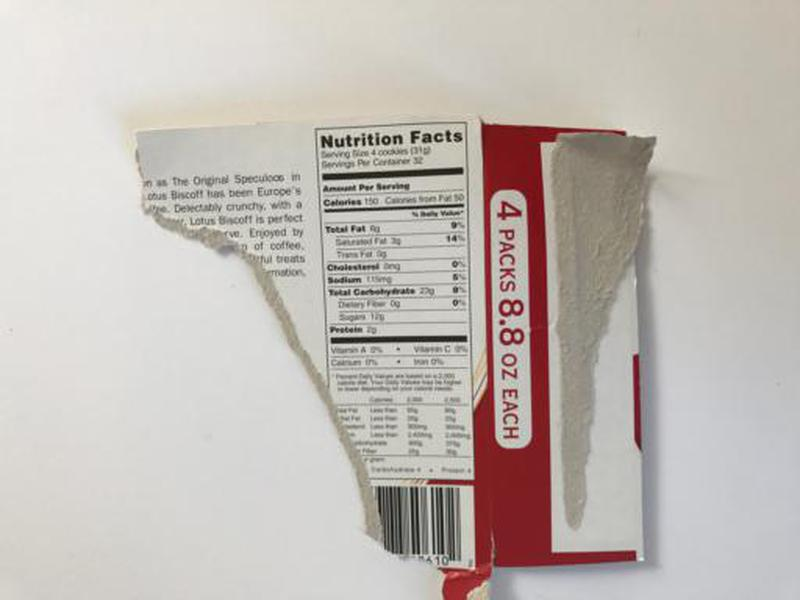paper: (129, 114, 660, 600)
